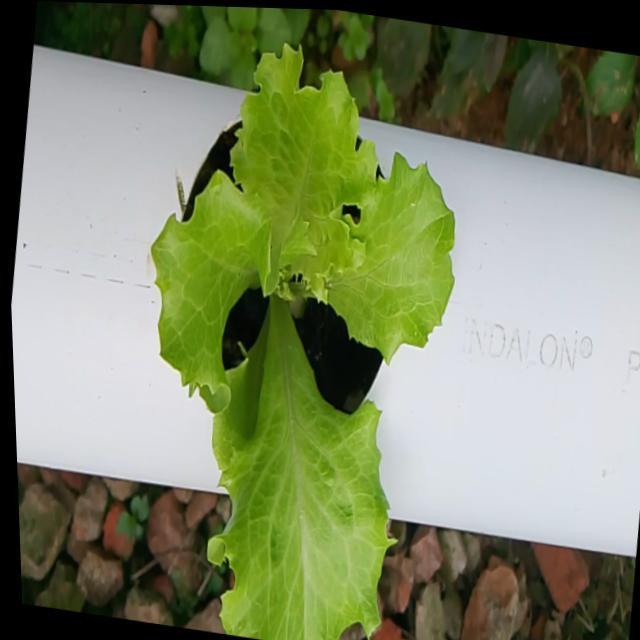Baby: (158, 39, 458, 640)
